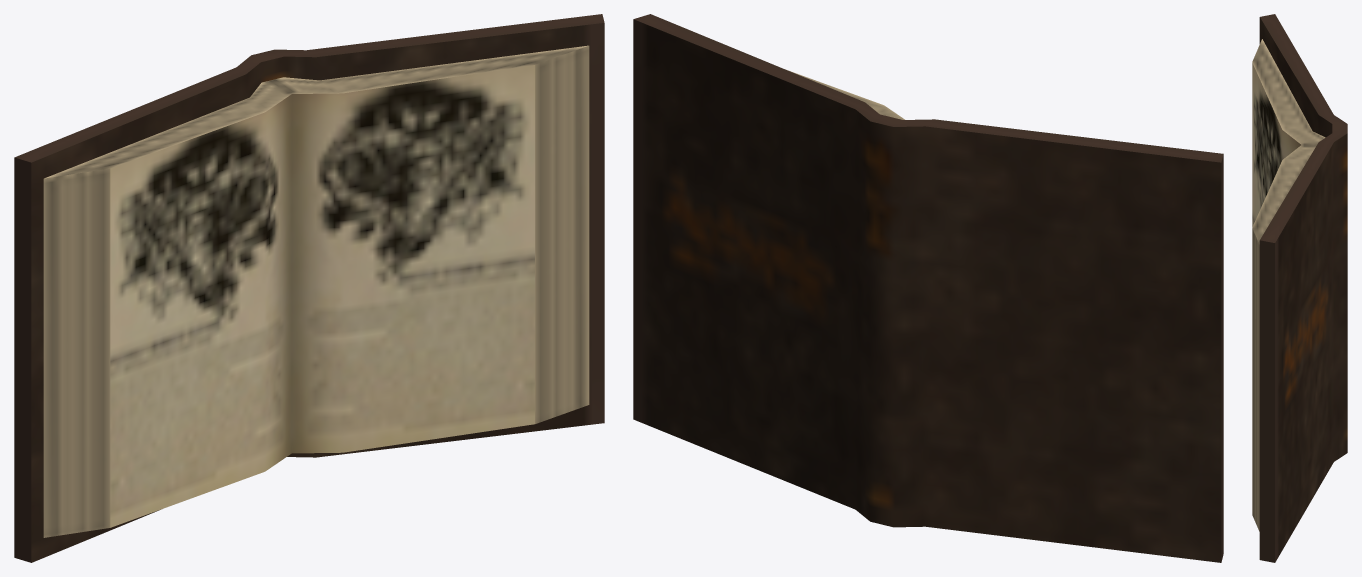
File: TobinsSpiritGuide.fbx
The picture shows the model from 3 angles, left to right: view 1: azimuth 30°, elevation 25°; view 2: azimuth 150°, elevation 25°; view 3: azimuth 270°, elevation 25°; orthographic projection. The views are drawn at different scales.
Parts seen in each view (by area): view 1: Book; view 2: Book; view 3: Book.
Part boxes in pixels (left/top/right/bottom): Book: left=14, top=14, right=604, bottom=562; Book: left=633, top=14, right=1223, bottom=562; Book: left=1252, top=14, right=1347, bottom=562.
Size of the model in its own units: 0.6952 by 0.4523 by 0.1225.
